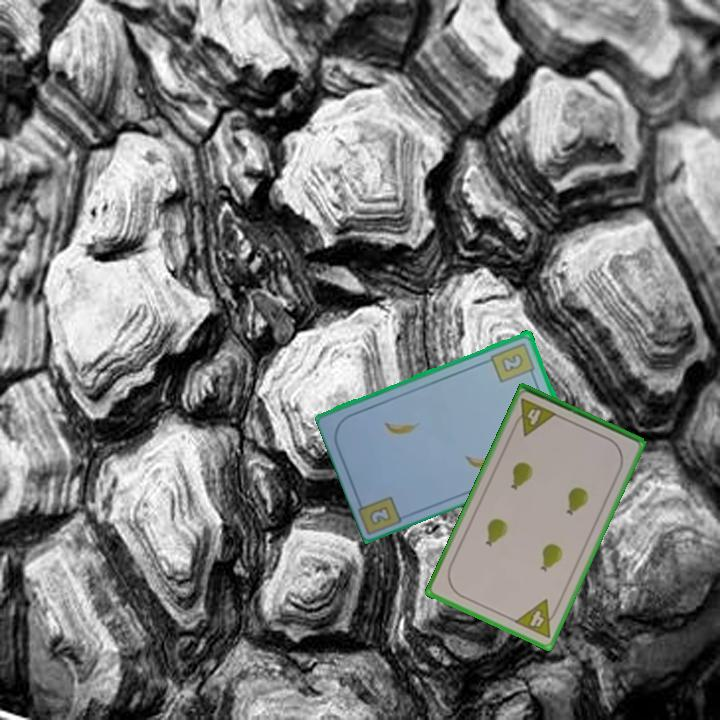2b: (488, 339, 538, 385), (366, 502, 394, 528)
4p: (511, 596, 563, 642), (509, 395, 560, 439)
